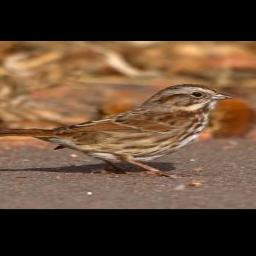Sparrow: (0, 80, 232, 179)
